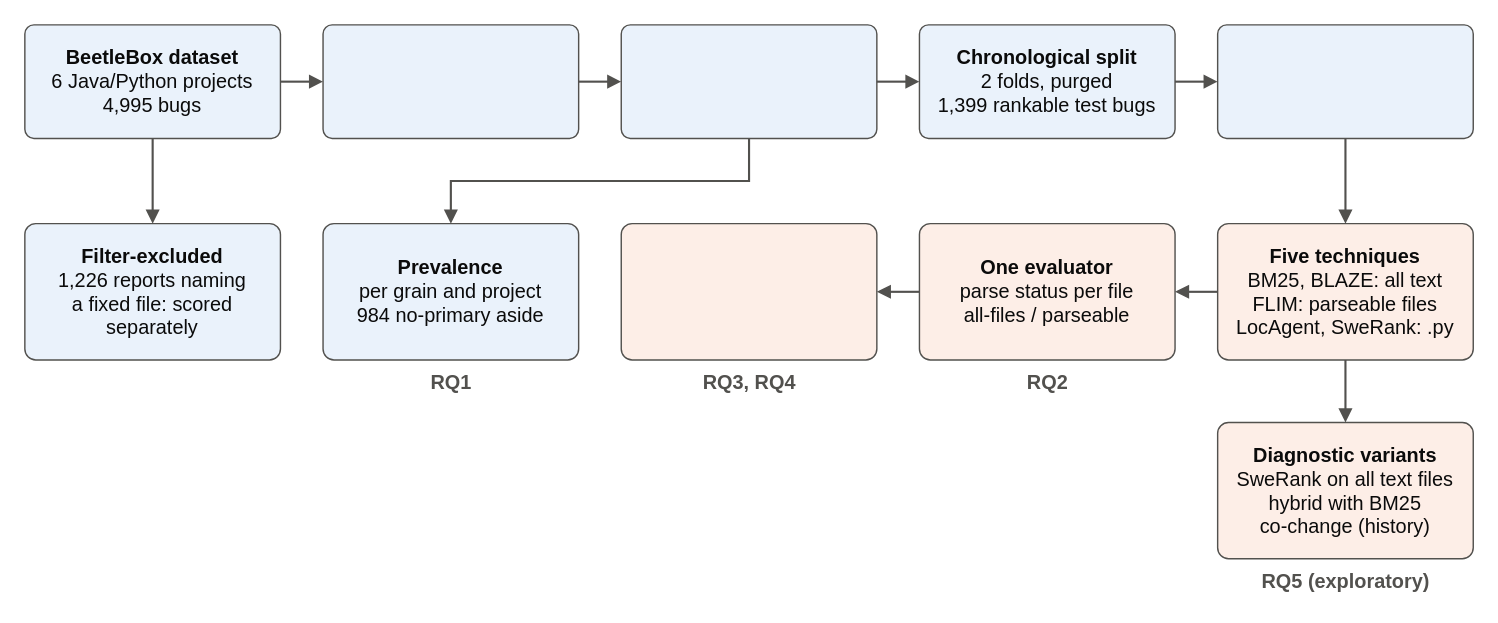
The diagram is 1498 pixels wide and 623 high, and some of its shapes have lost their labels. The shapes that lost their labels are listed below. From the top down, each one's centre as x and y in pixels, then its label:
pixel 450 80: Fix commits files vs. first parent 4,578 with counted files
pixel 748 80: Classification 3,594 primary-anchored: 2,561 Mono / 985 Poly
pixel 1344 80: Pre-fix snapshot every text file is a candidate
pixel 748 291: Statistics AP, CFR@10, RR mixed models, S1–S6
